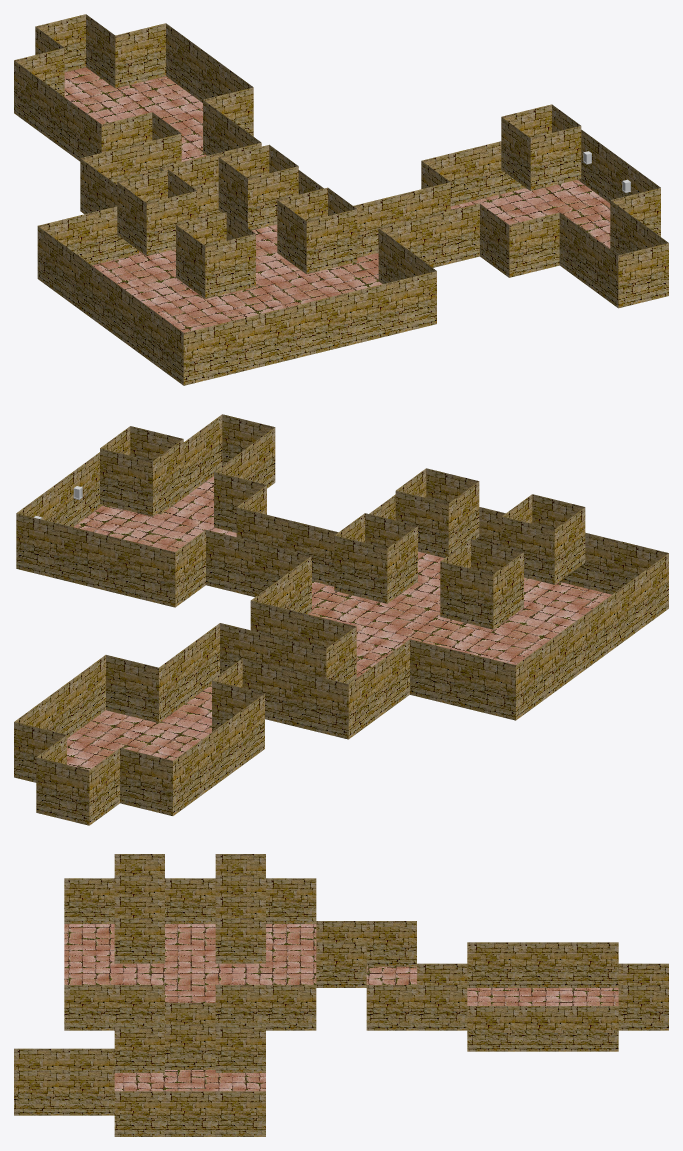
File: ArtDungeonScene1.glb
The picture shows the model from 3 angles, top to bottom: view 1: azimuth 30°, elevation 25°; view 2: azimuth 150°, elevation 25°; view 3: azimuth 270°, elevation 25°; orthographic projection. The views are drawn at different scales.
Visible parts, largest first — view 1: LevelMesh; view 2: LevelMesh; view 3: LevelMesh.
Boxes of the visible parts, x1,y1,x2,y2 form: LevelMesh: [14, 14, 668, 385]; LevelMesh: [14, 414, 668, 825]; LevelMesh: [14, 854, 668, 1136].
Size of the model in its own units: 10 by 2 by 13.
Materials: 3 (3 with a texture image).
